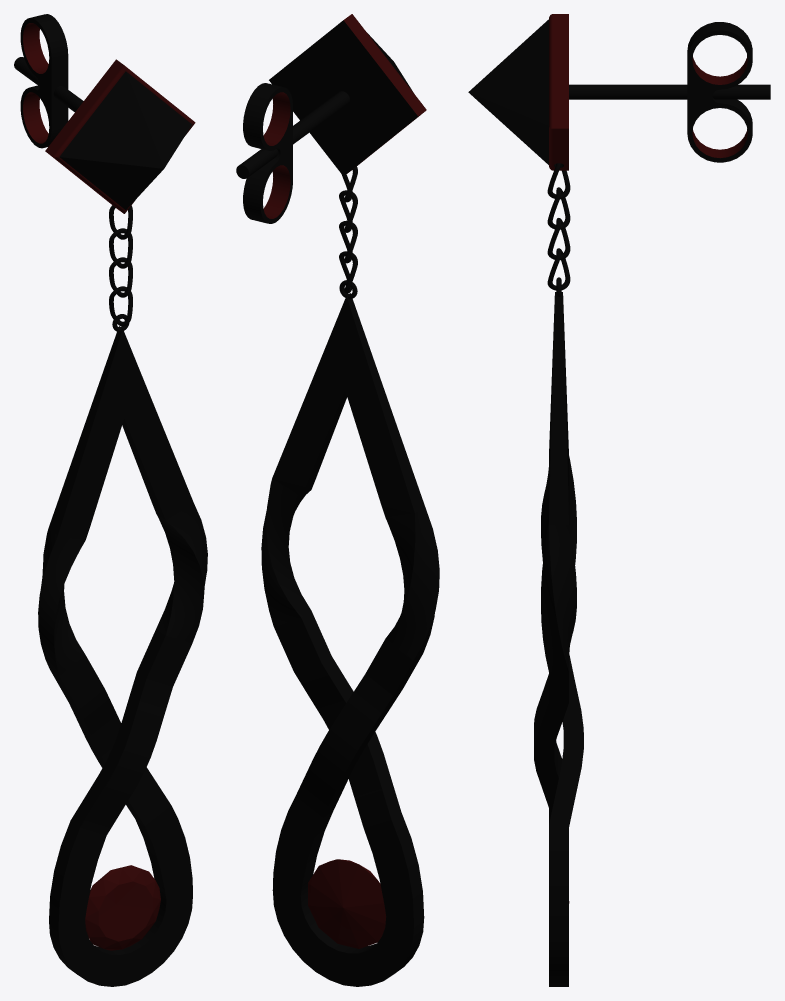
File: earrings2.glb
3 renders of one model, left to right at view 1: azimuth 30°, elevation 25°; view 2: azimuth 150°, elevation 25°; view 3: azimuth 270°, elevation 25°, orthographic. The views are drawn at different scales.
Visible parts, largest first — view 1: Object_4, Object_5, Object_2, Object_3.001, Object_6; view 2: Object_4, Object_5, Object_3.001, Object_6, Object_2; view 3: Object_4, Object_5, Object_2, Object_6.
Part boxes in pixels (left/top/right/bottom): Object_4: left=20, top=14, right=204, bottom=986; Object_5: left=38, top=329, right=207, bottom=974; Object_2: left=14, top=57, right=191, bottom=209; Object_3.001: left=85, top=865, right=160, bottom=950; Object_6: left=23, top=23, right=195, bottom=213; Object_4: left=243, top=20, right=439, bottom=986; Object_5: left=266, top=296, right=434, bottom=973; Object_3.001: left=308, top=859, right=386, bottom=948; Object_6: left=263, top=14, right=426, bottom=218; Object_2: left=236, top=33, right=413, bottom=178; Object_4: left=534, top=22, right=752, bottom=826; Object_5: left=534, top=296, right=583, bottom=986; Object_2: left=468, top=19, right=770, bottom=164; Object_6: left=549, top=14, right=747, bottom=170.
Bounding box in the file's own units: 0.0138 × 0.0718 × 0.0204.
Materials: 5 (5 with a texture image).
